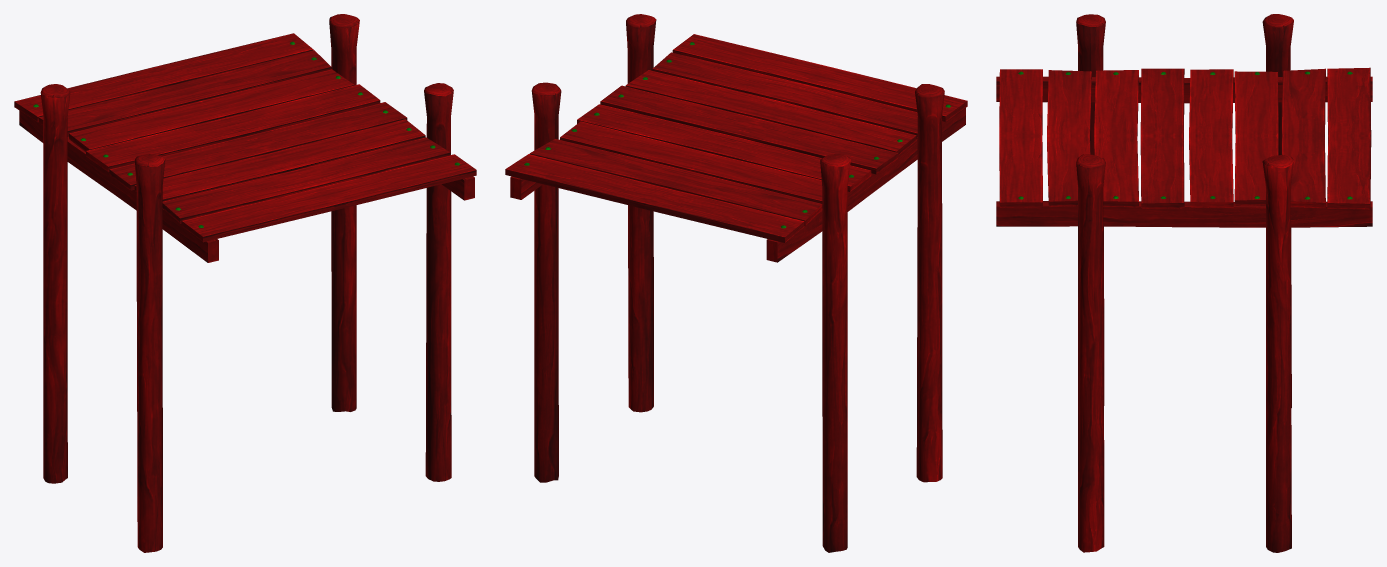
File: Dock01.fbx
3 renders of one model, left to right at view 1: azimuth 30°, elevation 25°; view 2: azimuth 150°, elevation 25°; view 3: azimuth 270°, elevation 25°, orthographic.
Parts seen in each view (by area): view 1: Dock01_LOD0; view 2: Dock01_LOD0; view 3: Dock01_LOD0.
Boxes of the visible parts, bbox=[...] form: Dock01_LOD0: bbox=[14, 14, 476, 552]; Dock01_LOD0: bbox=[505, 14, 967, 552]; Dock01_LOD0: bbox=[996, 14, 1372, 552].
Size of what is drawn, in the model's own units: 1.93 by 2.29 by 2.
